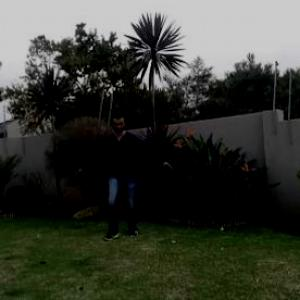land: (77, 108, 182, 240)
